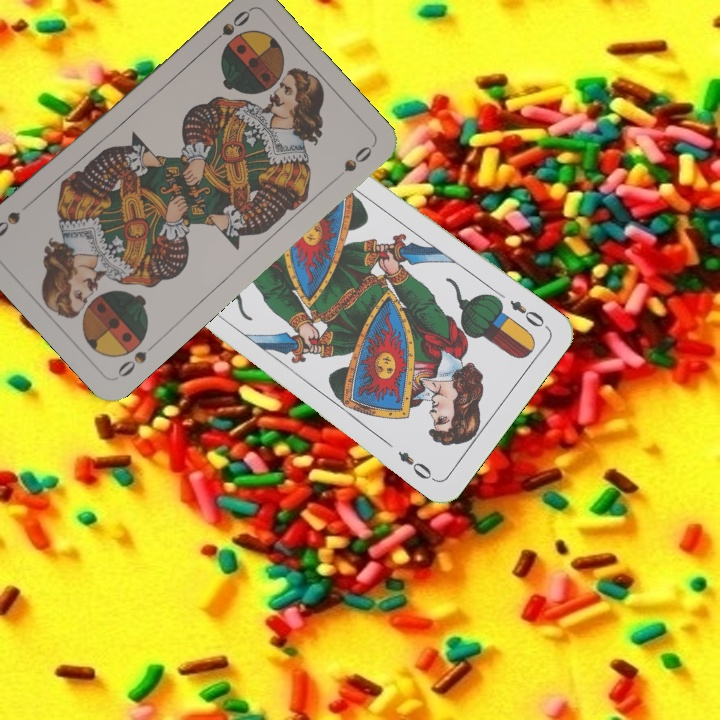EO: (505, 296, 551, 332)
SO: (204, 6, 253, 50), (113, 337, 161, 380)
